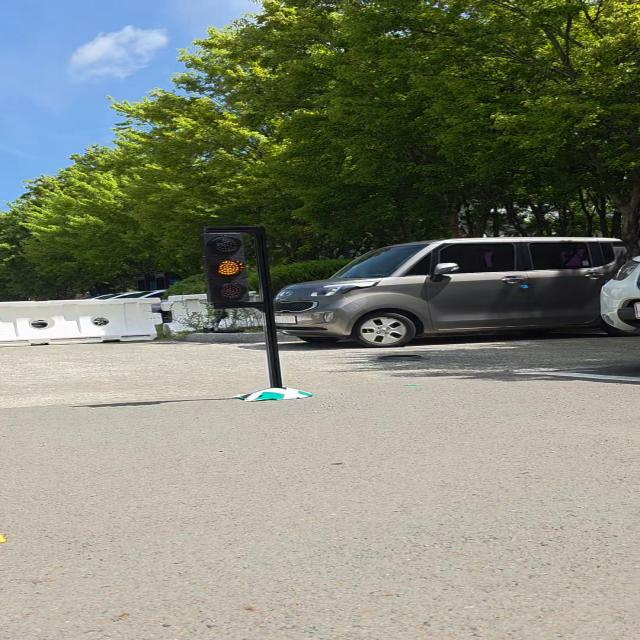yellow: (202, 232, 252, 304)
